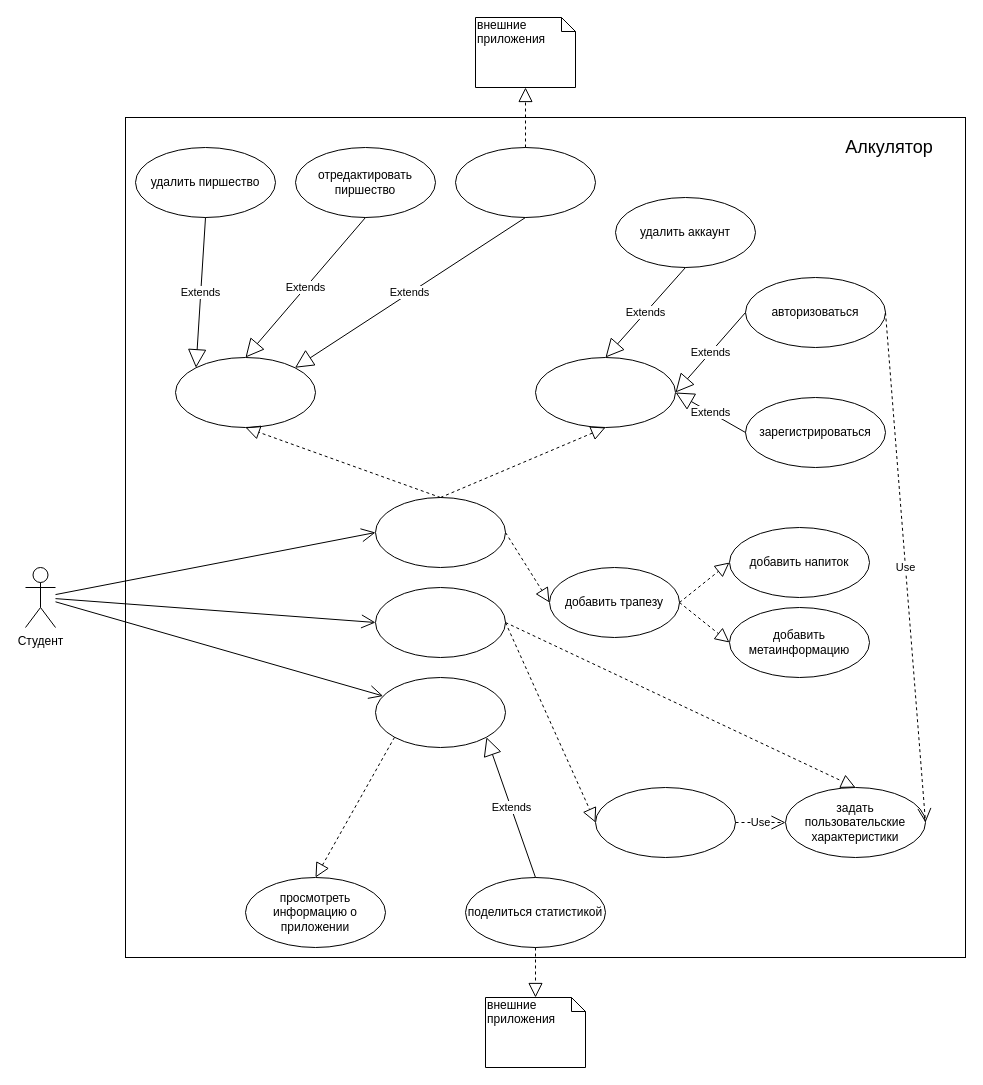
This 983x1085 diagram has some shape labels left out. Here are the shapes that lost their labels. From the top down, the centre of each, then its label:
At (x=525, y=182): "поделиться пиршеством".
At (x=245, y=392): "просмотреть свой список".
At (x=605, y=392): "просмотреть чужой список".
At (x=440, y=532): "просмотреть список пиршеств".
At (x=440, y=622): "использовать калькулятор".
At (x=440, y=712): "просмотреть статистику".
At (x=665, y=822): "рассчитать время отрезвления и вывода алкоголя из организма".
